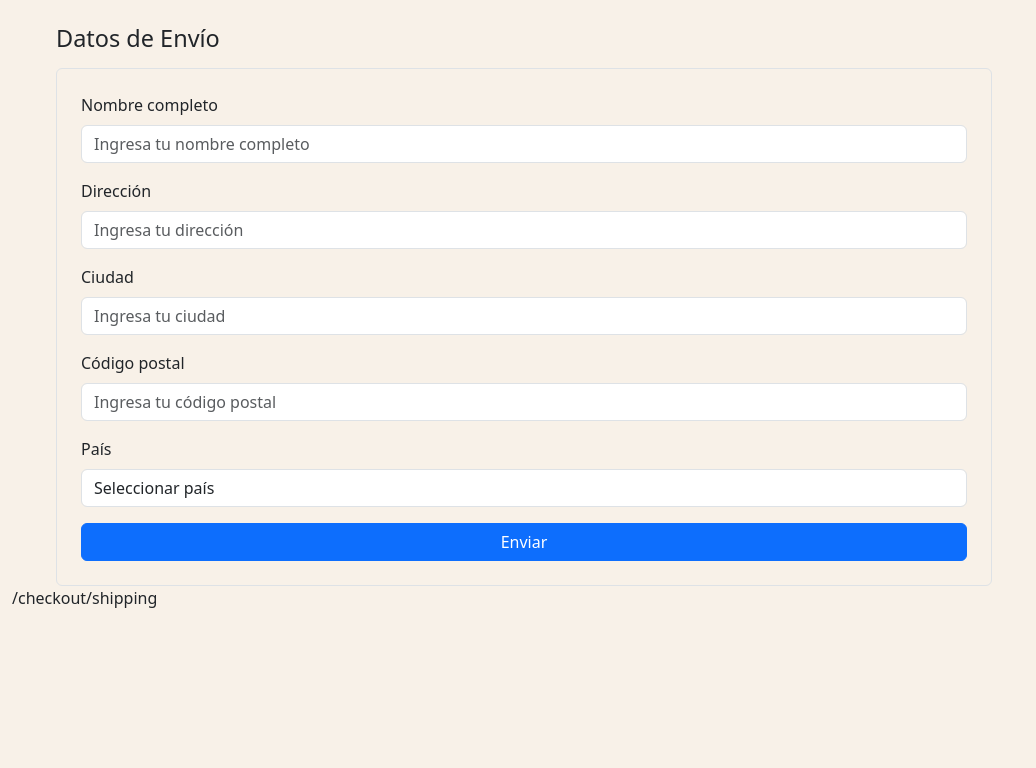
Test: ShippingForm › acepta datos válidos, completa el paso y navega a /checkout/payment
Type "Caro Mora" into the field with placeholder "Ingresa tu nombre completo" at (524, 144), box [81, 125, 967, 163]
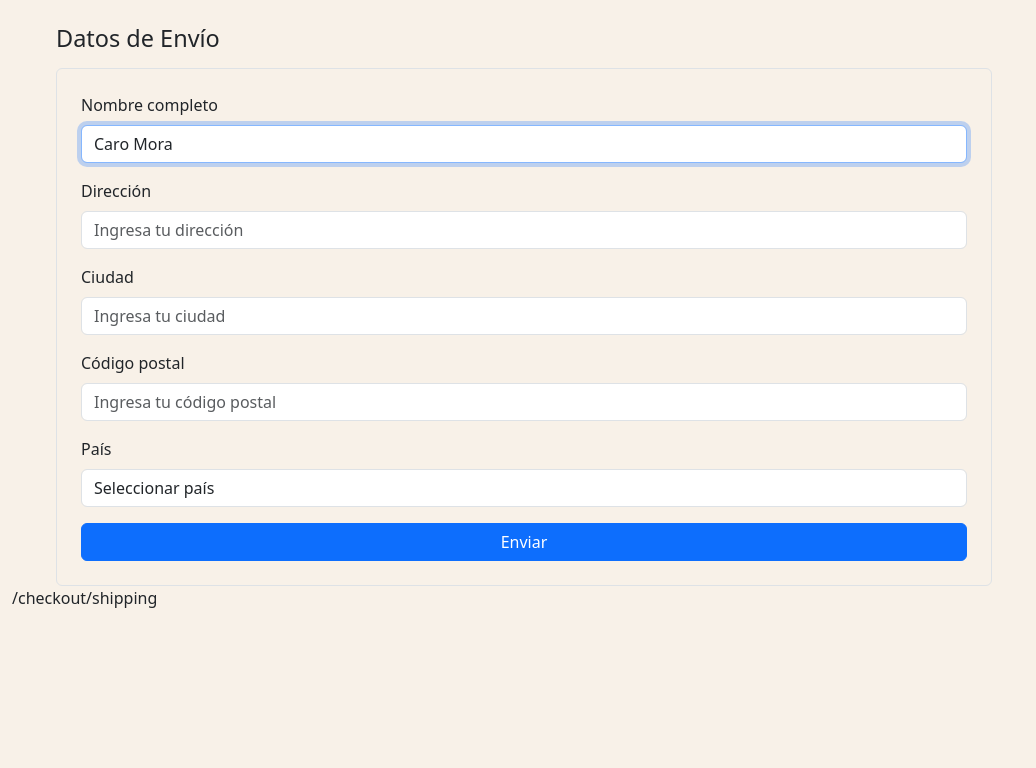
Type "Calle 123" into the field with placeholder "Ingresa tu dirección" at (524, 230), box [81, 211, 967, 249]
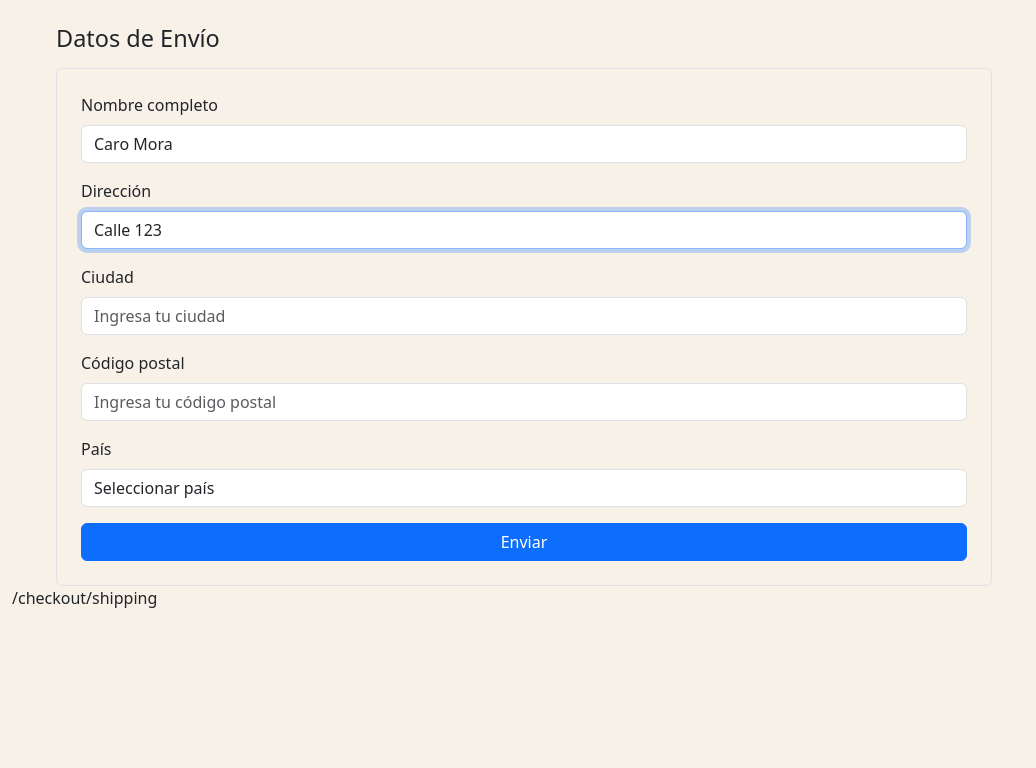
Type "Santiago" into the field with placeholder "Ingresa tu ciudad" at (524, 316), box [81, 297, 967, 335]
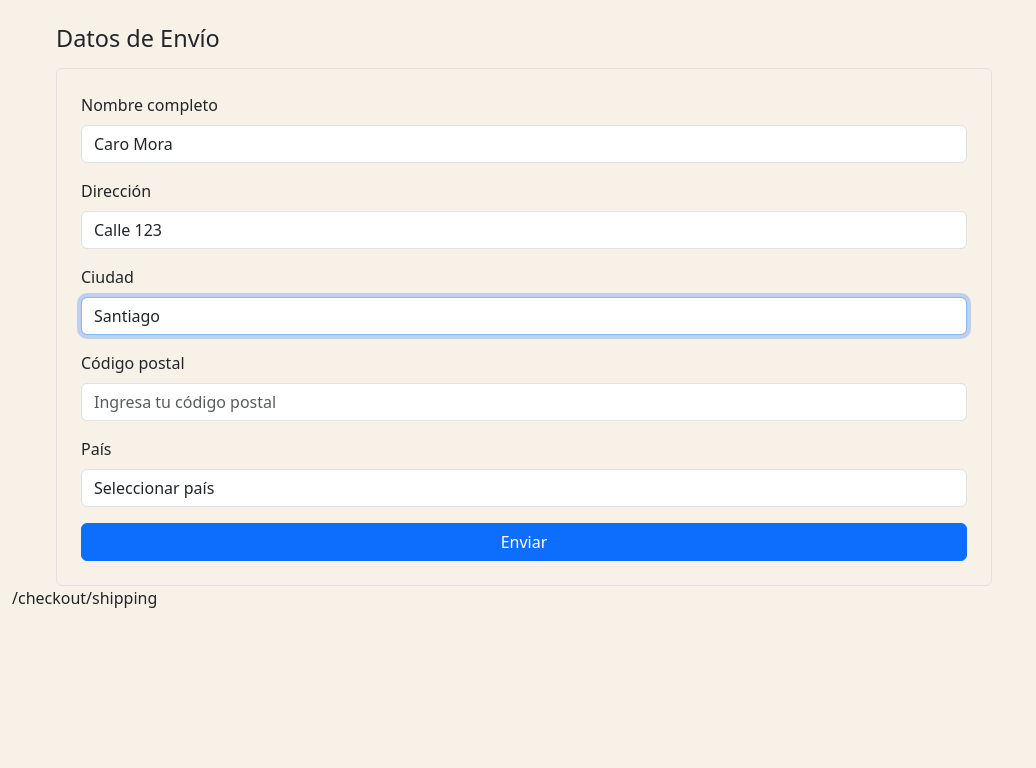
Type "12345" into the field with placeholder "Ingresa tu código postal" at (524, 402), box [81, 383, 967, 421]
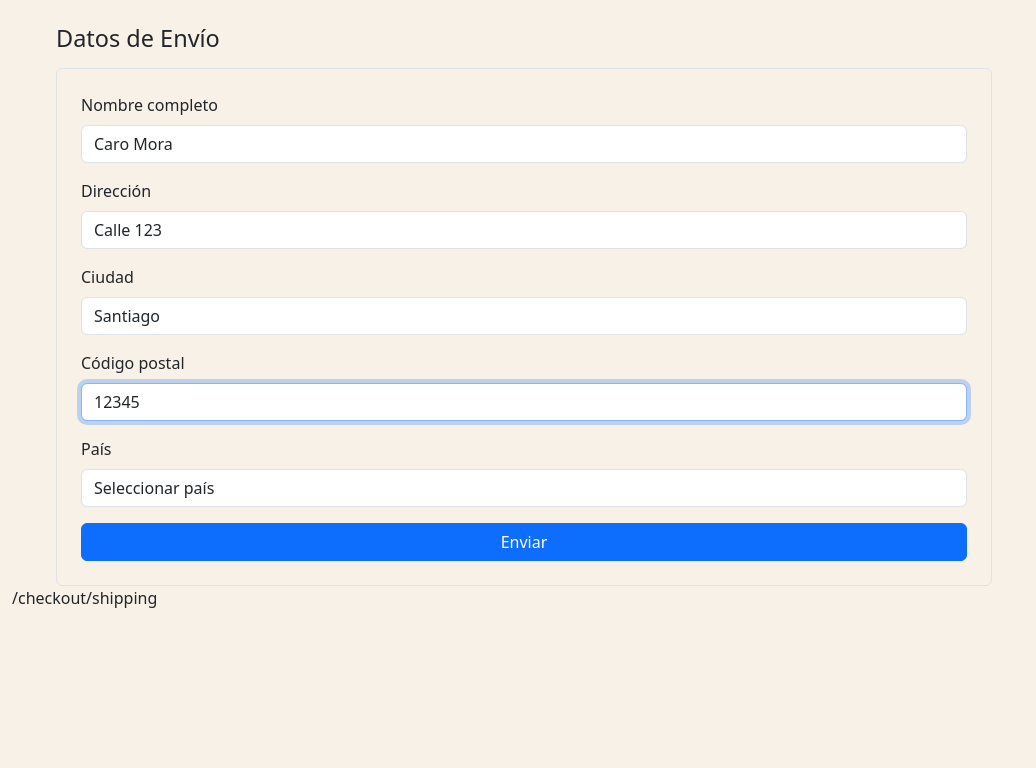
Select "Canadá" in the dropdown labelled "País" at (524, 488), box [81, 469, 967, 507]
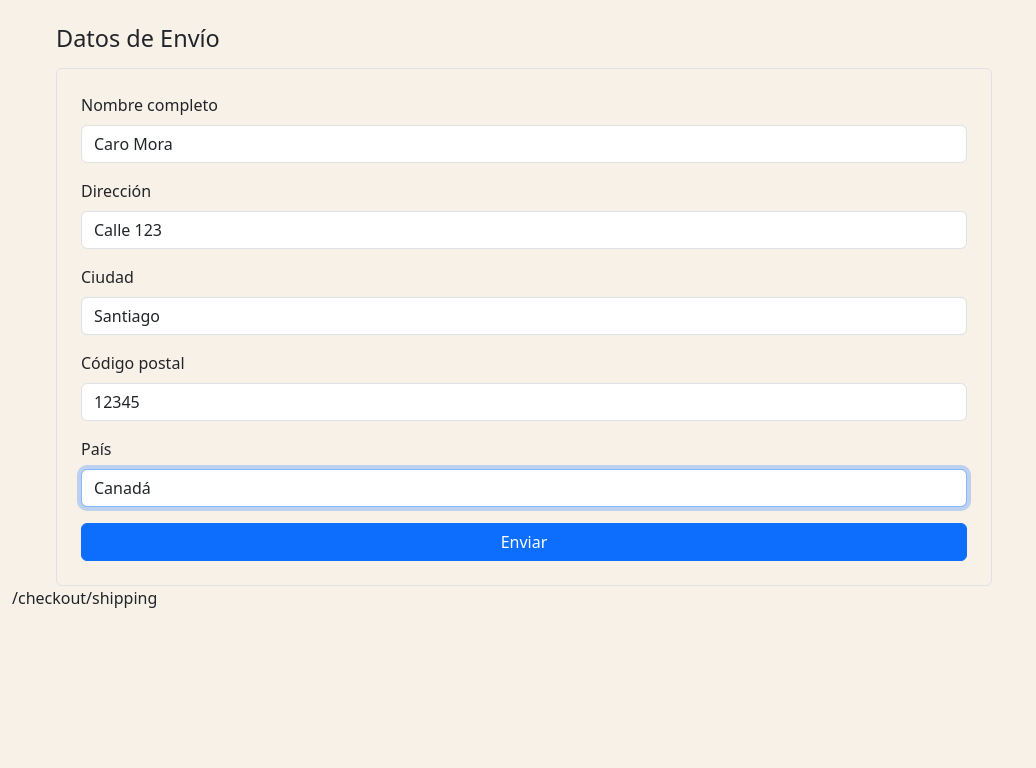
Click the button "Enviar" at (524, 542), box [81, 523, 967, 561]
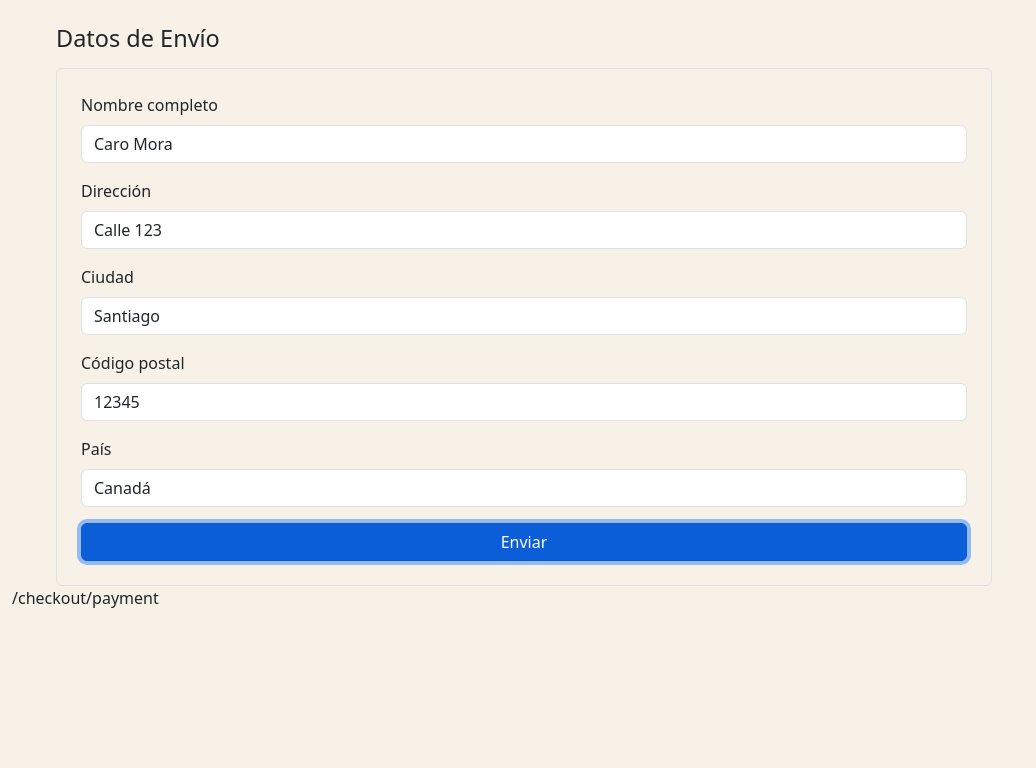
Expected: the text "/checkout/payment" is shown, [12, 587, 159, 609]
